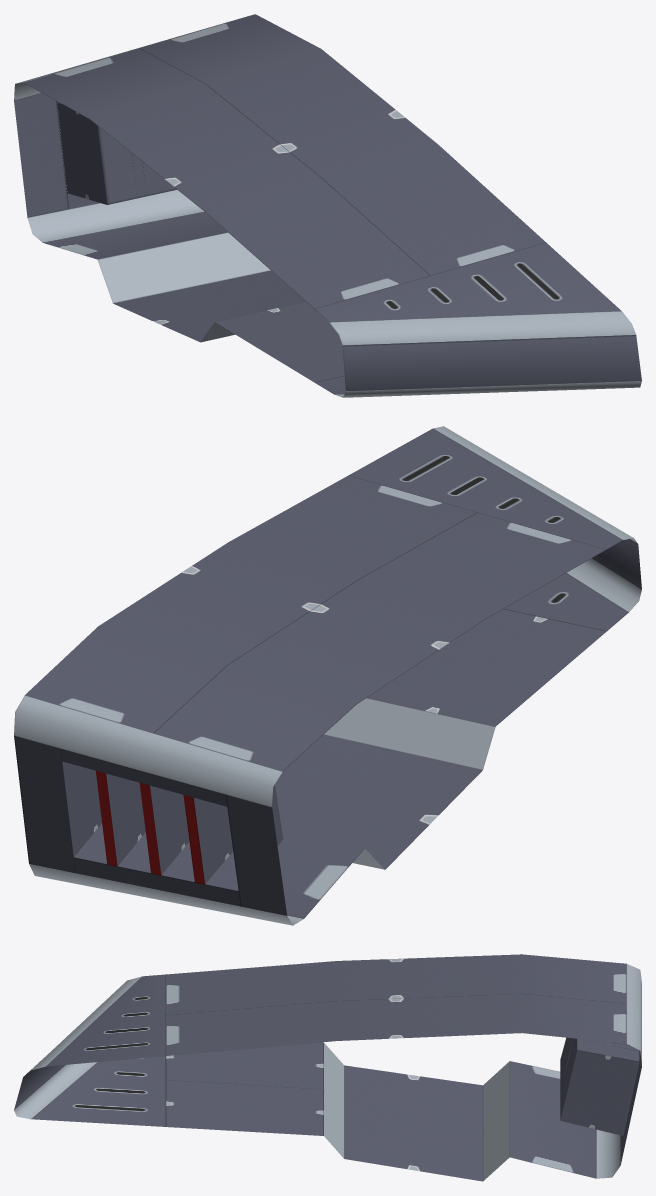
File: Reactor_Support_03.FBX
3 views of the same model, one above another, from view 1: azimuth 30°, elevation 25°; view 2: azimuth 150°, elevation 25°; view 3: azimuth 270°, elevation 25° (orthographic). The views are drawn at different scales.
Visible parts, largest first — view 1: Reactor_Support_03; view 2: Reactor_Support_03; view 3: Reactor_Support_03.
Part boxes in pixels (x1,y1,x2,y2): Reactor_Support_03: (14, 14, 641, 397); Reactor_Support_03: (14, 426, 641, 925); Reactor_Support_03: (14, 954, 641, 1181).
Size of the model in its own units: 2.12 by 1.64 by 6.25.
Materials: 1 (1 with a texture image).
